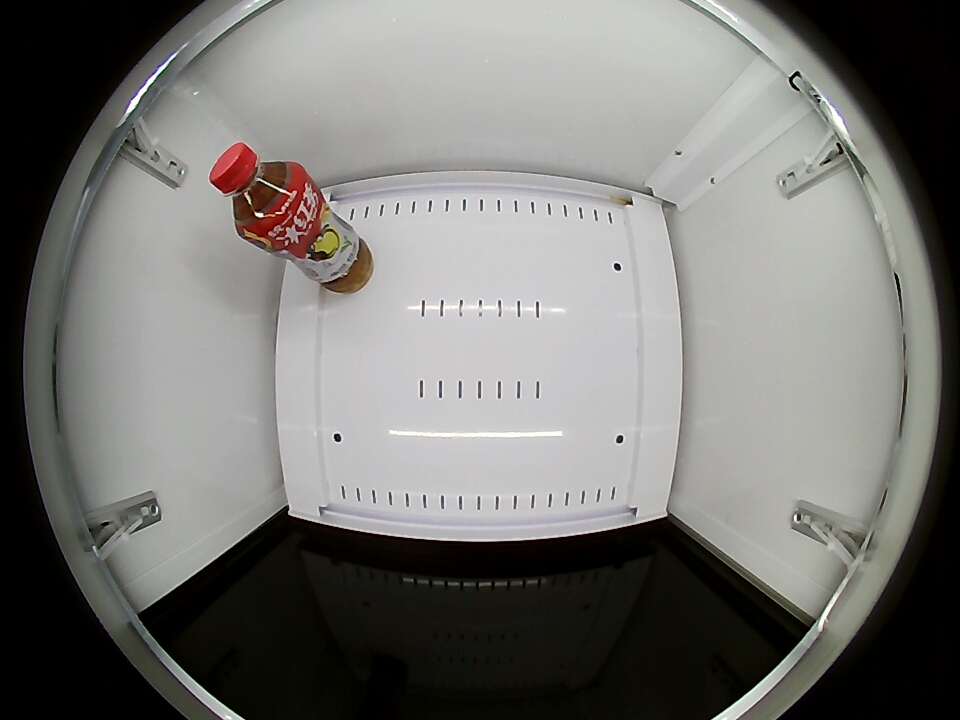binghongcha: (208, 142, 305, 239)
